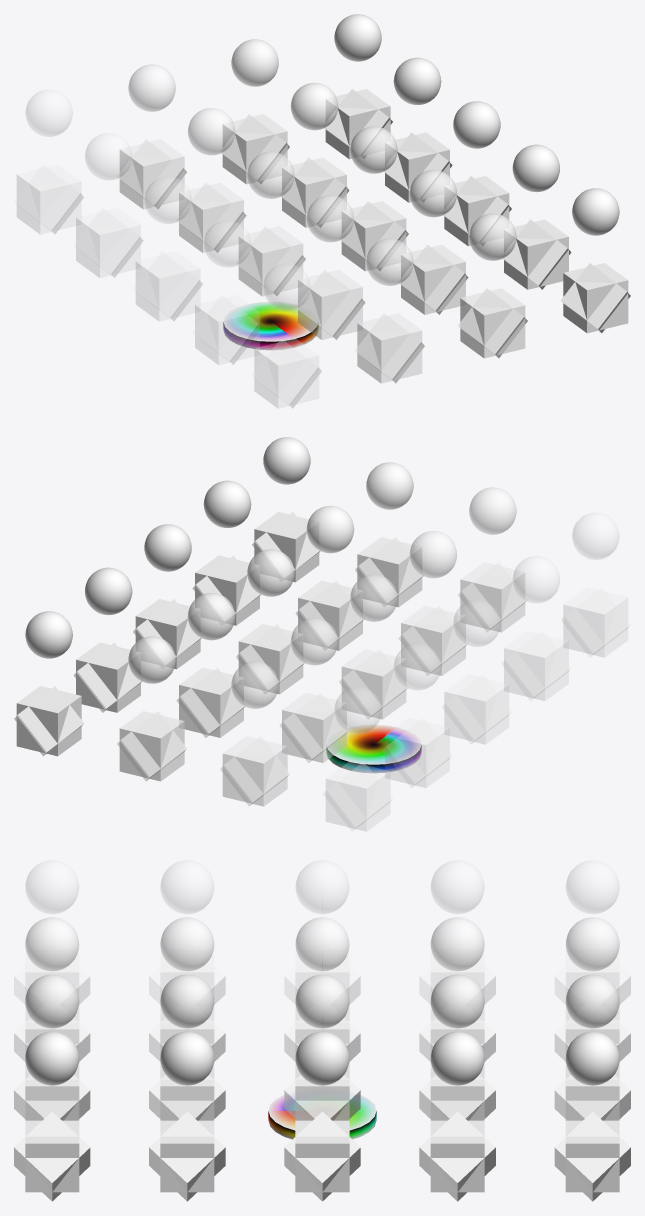
File: opacity-metal-rough.3.gltf
The picture shows the model from 3 angles, top to bottom: view 1: azimuth 30°, elevation 25°; view 2: azimuth 150°, elevation 25°; view 3: azimuth 270°, elevation 25°; orthographic projection. The views are drawn at different scales.
Parts seen in each view (by area): view 1: cube (×20), diamond (×20), sphere (×20), base; view 2: cube (×20), diamond (×20), sphere (×20), base; view 3: sphere (×20), diamond (×20), cube (×20), base.
Boxes of the visible parts, x1,y1,x2,y2 form: cube (×20): (17, 89, 628, 408); diamond (×20): (14, 89, 630, 407); sphere (×20): (25, 14, 619, 310); base: (223, 301, 318, 350); cube (×20): (16, 512, 627, 831); diamond (×20): (14, 512, 630, 830); sphere (×20): (25, 437, 619, 733); base: (326, 724, 421, 773); sphere (×20): (25, 860, 619, 1085); diamond (×20): (14, 961, 630, 1201); cube (×20): (25, 950, 619, 1192); base: (268, 1092, 376, 1139).
Size of what is drawn, in the model's own units: 4.6 by 2.05 by 5.71.
21 materials, 1 textured.
